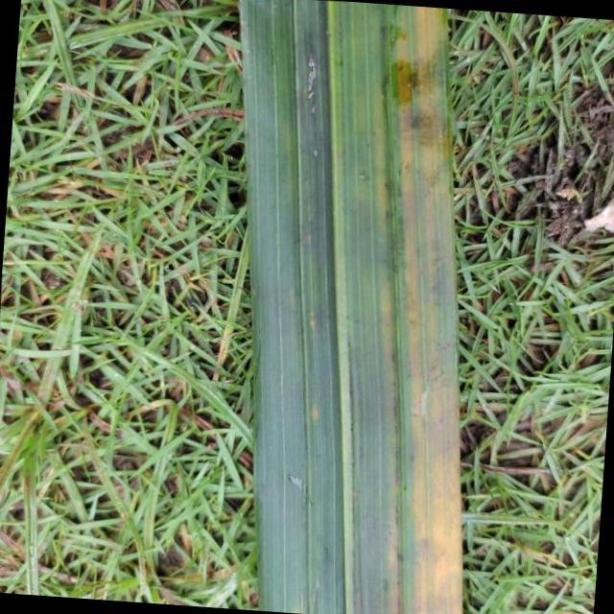Megnesium: (240, 0, 462, 614)
